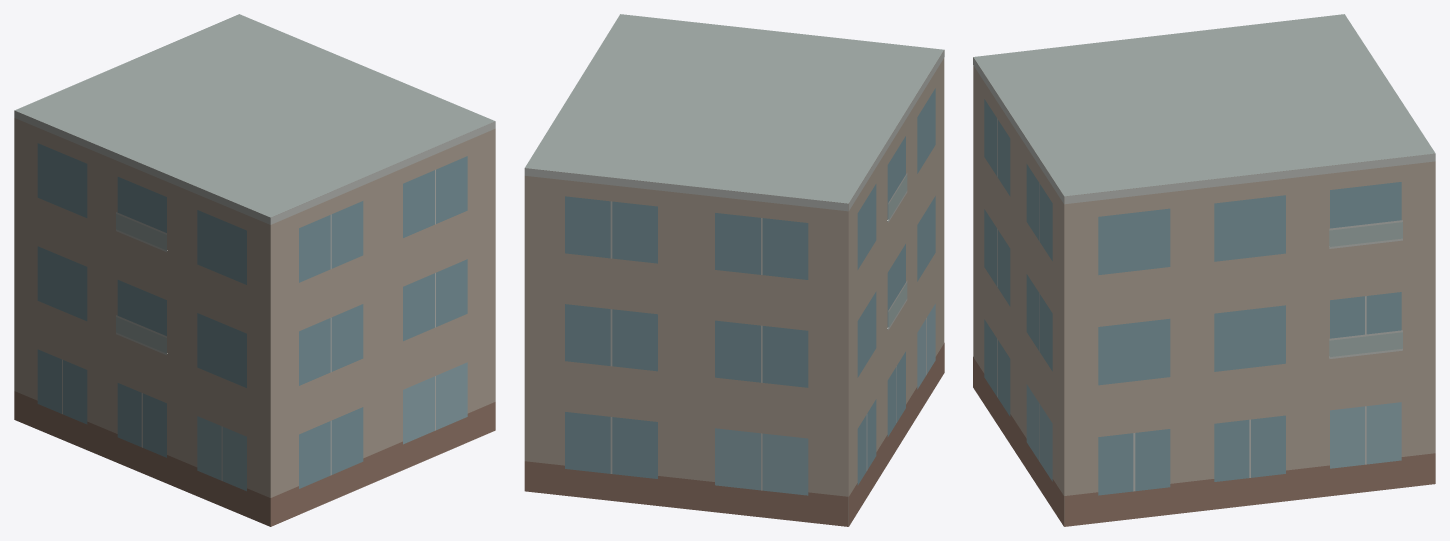
Rendered from survey-upis-32687772.glb.
3 renders of one model, left to right at view 1: azimuth 30°, elevation 25°; view 2: azimuth 150°, elevation 25°; view 3: azimuth 270°, elevation 25°, orthographic. The views are drawn at different scales.
Parts seen in each view (by area): view 1: survey-upis-32687772.tmp; view 2: survey-upis-32687772.tmp; view 3: survey-upis-32687772.tmp.
Boxes of the visible parts, box(x1,y1,x2,y2) form: survey-upis-32687772.tmp: box(14, 14, 495, 526); survey-upis-32687772.tmp: box(524, 14, 944, 526); survey-upis-32687772.tmp: box(973, 14, 1435, 526).
Bounding box in the file's own units: 12.08 × 10.2 × 12.95.
